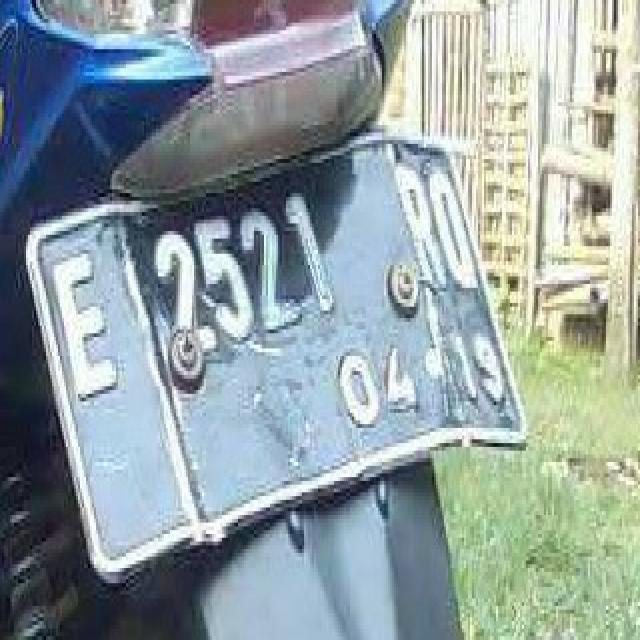plate: (18, 129, 530, 515)
